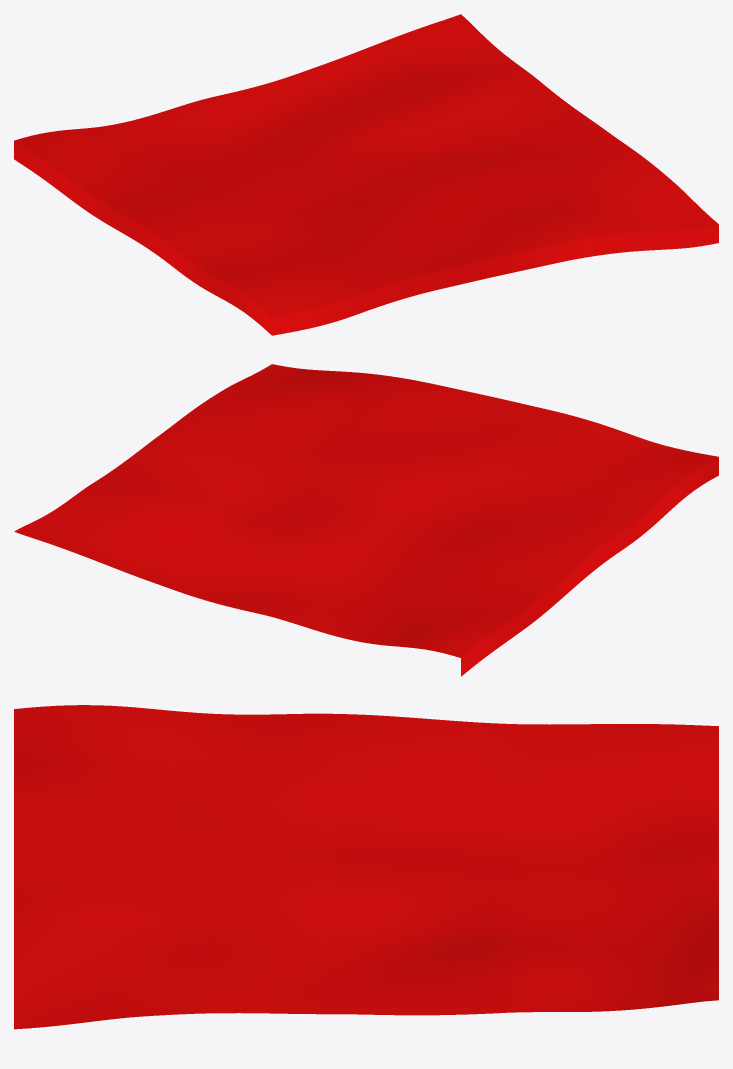
The model's file is terrain_0_0.glb.
3 views of the same model, one above another, from view 1: azimuth 30°, elevation 25°; view 2: azimuth 150°, elevation 25°; view 3: azimuth 270°, elevation 25° (orthographic). The views are drawn at different scales.
Visible parts, largest first — view 1: terrain_0_0.0, terrain_0_0.1; view 2: terrain_0_0.0, terrain_0_0.1; view 3: terrain_0_0.0.
Part boxes in pixels (x1,y1,x2,y2): terrain_0_0.0: (14,14,718,316); terrain_0_0.1: (14,141,718,335); terrain_0_0.0: (14,364,718,657); terrain_0_0.1: (461,457,718,676); terrain_0_0.0: (14,705,718,1029).
Bounding box in the file's own units: 50 × 4.34 × 50.
